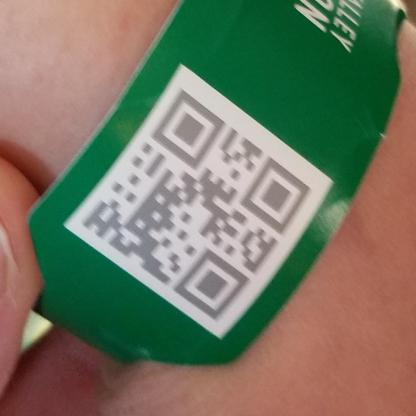qr: (72, 83, 318, 330)
